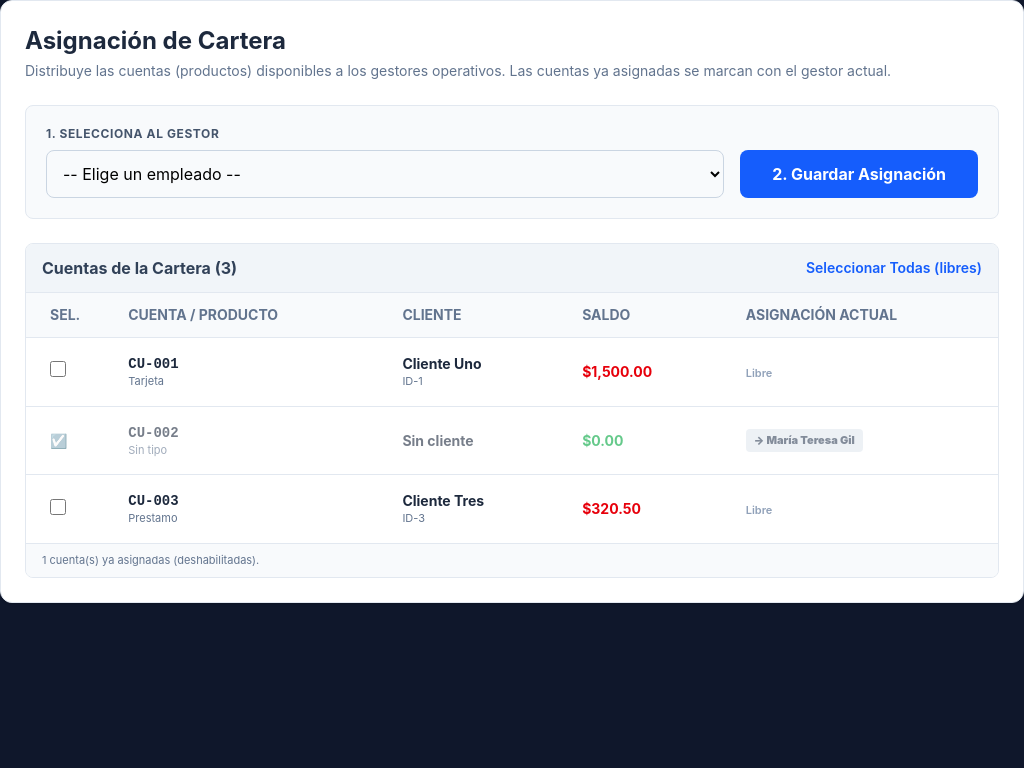
Test: AsignacionCartera: guardado › exige elegir un gestor antes de guardar
The width and height of the screenshot is (1024, 768).
Expected: the text "CU-001" is shown, top-left (128, 356), bottom-right (179, 372)
Click the checkbox next to "CU-001".
click(58, 369)  # box top-left (50, 361), bottom-right (66, 377)
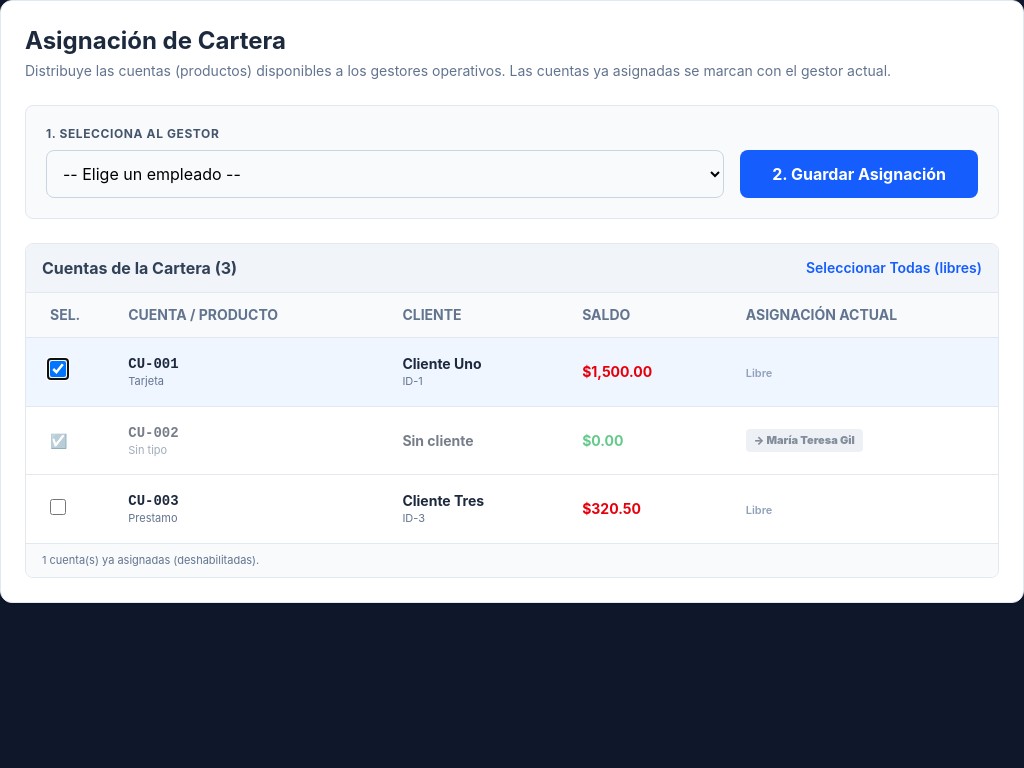
Click the button "2. Guardar Asignación".
click(859, 174)  # box top-left (740, 150), bottom-right (978, 198)
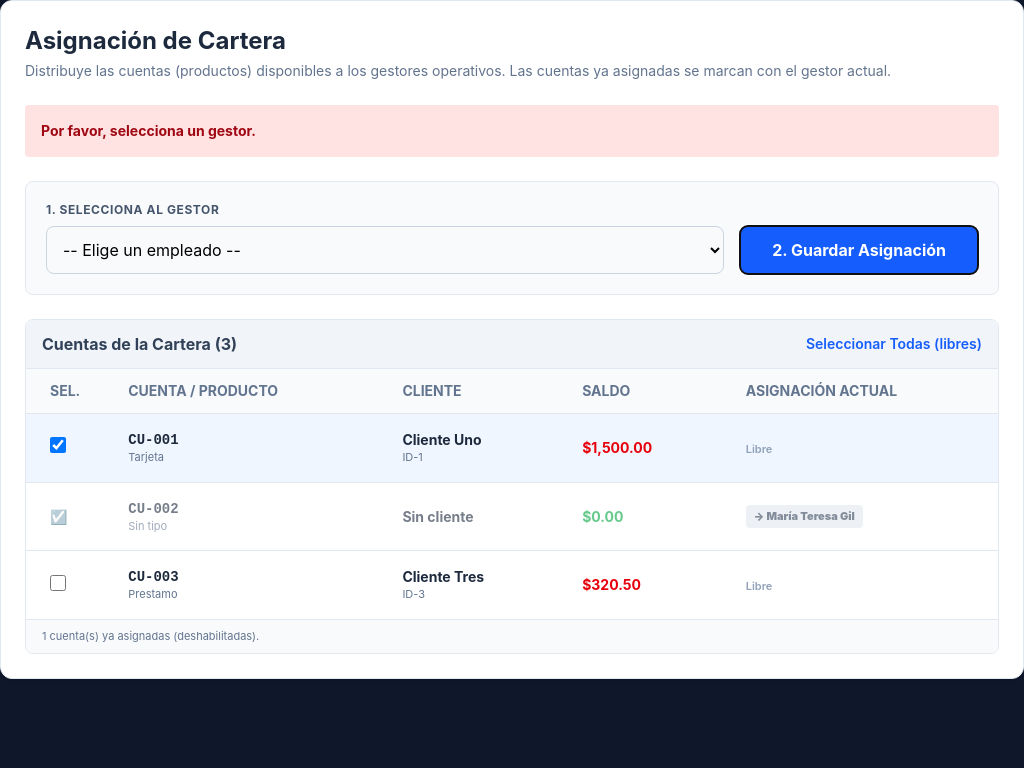
Expected: the text "Por favor, selecciona un gestor." is shown, top-left (25, 105), bottom-right (999, 157)
